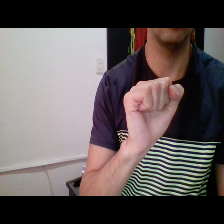9D: (117, 75, 193, 156)
